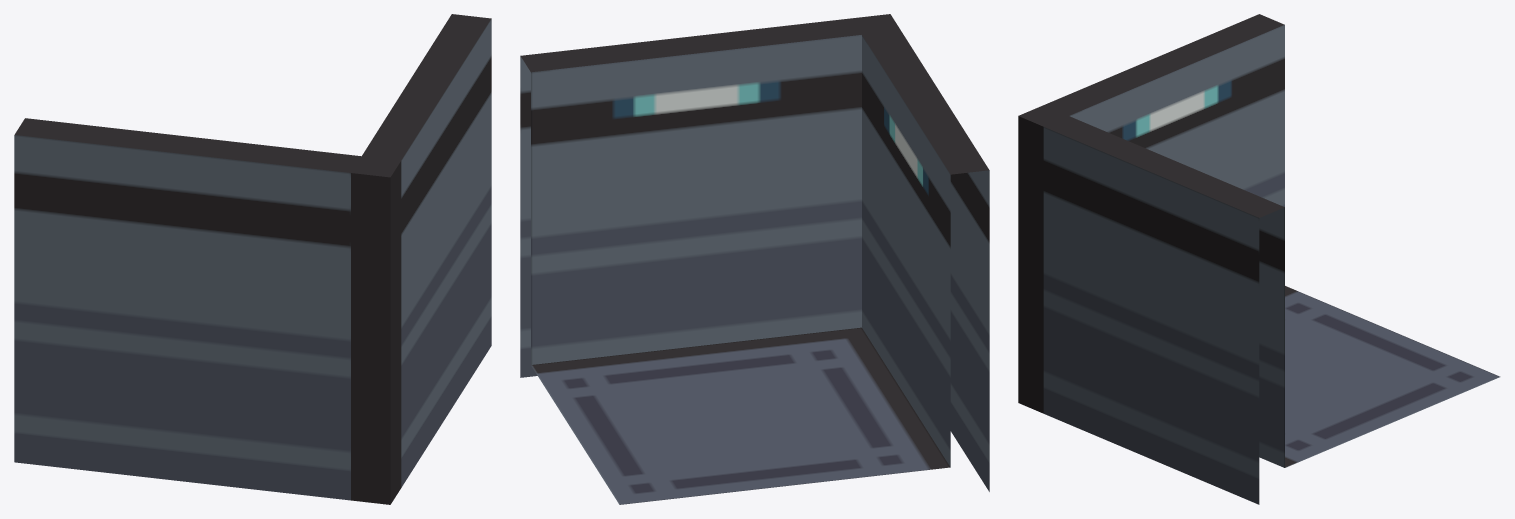
The model's file is tileCornerD.fbx.
3 renders of one model, left to right at view 1: azimuth 30°, elevation 25°; view 2: azimuth 150°, elevation 25°; view 3: azimuth 270°, elevation 25°, orthographic. The views are drawn at different scales.
Visible parts, largest first — view 1: tileCornerD; view 2: tileCornerD; view 3: tileCornerD.
Part boxes in pixels (<box>): tileCornerD: <box>14,14,491,504</box>; tileCornerD: <box>520,14,989,504</box>; tileCornerD: <box>1018,14,1500,504</box>.
Size of the model in its own units: 671 by 440 by 671.
